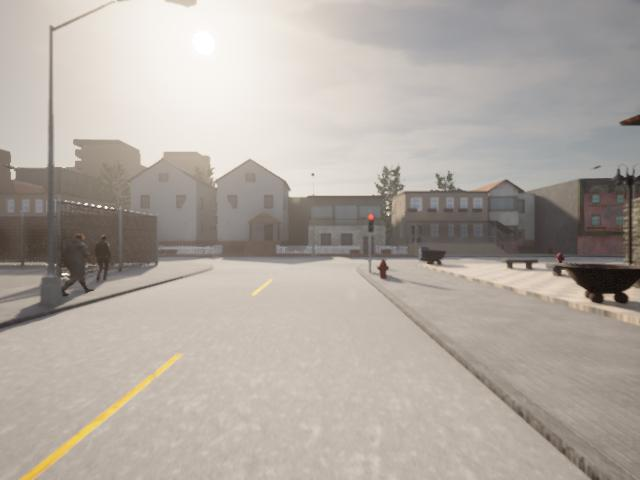5: (368, 214, 373, 233)
vehicle: (62, 234, 95, 297), (93, 234, 113, 284)
